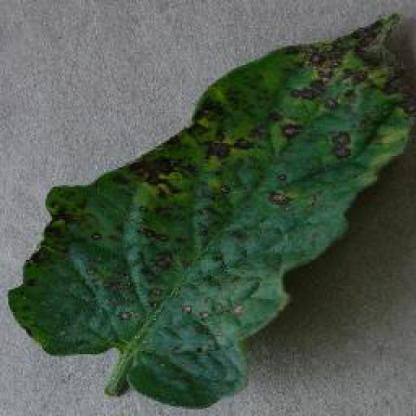Tomato_Blight: (9, 12, 412, 405)
